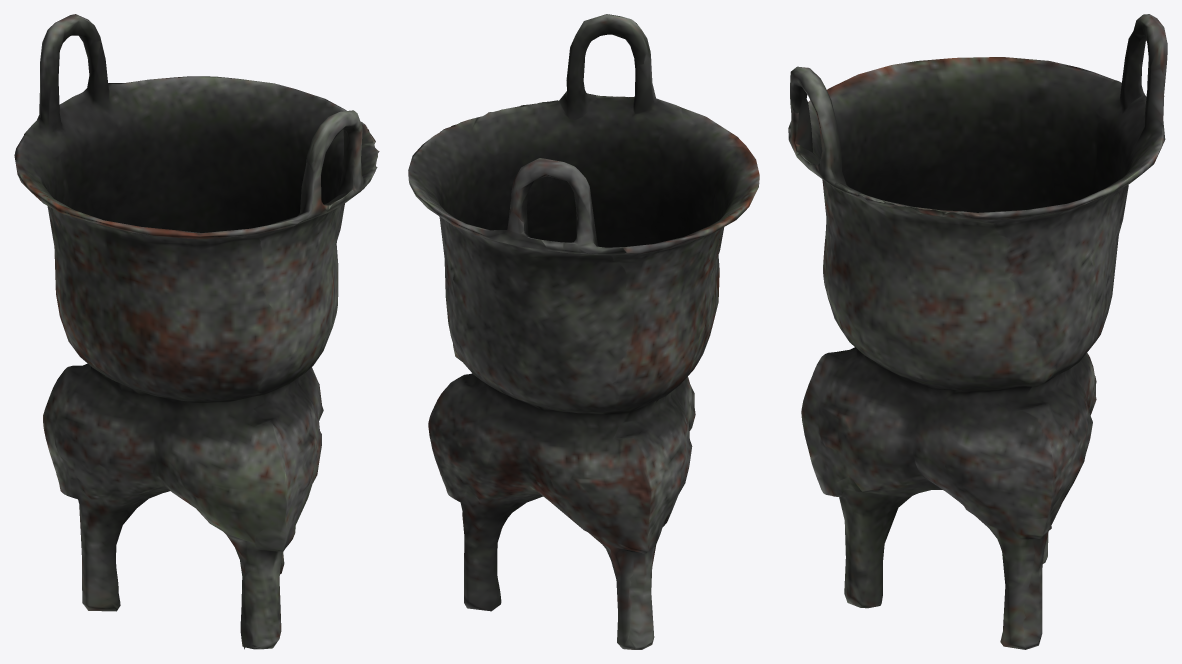
File: Vessel 6.fbx
The picture shows the model from 3 angles, left to right: view 1: azimuth 30°, elevation 25°; view 2: azimuth 150°, elevation 25°; view 3: azimuth 270°, elevation 25°; orthographic projection. The views are drawn at different scales.
Parts seen in each view (by area): view 1: Vessel_6; view 2: Vessel_6; view 3: Vessel_6.
Boxes of the visible parts, x1,y1,x2,y2 form: Vessel_6: (14, 14, 379, 649); Vessel_6: (408, 14, 759, 649); Vessel_6: (788, 14, 1167, 649).
Bounding box in the file's own units: 36.46 × 60.01 × 36.86.
1 material, 1 textured.
